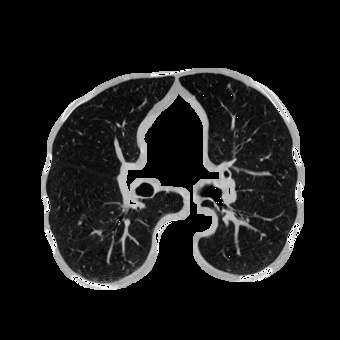PN: (227, 83, 231, 87)
